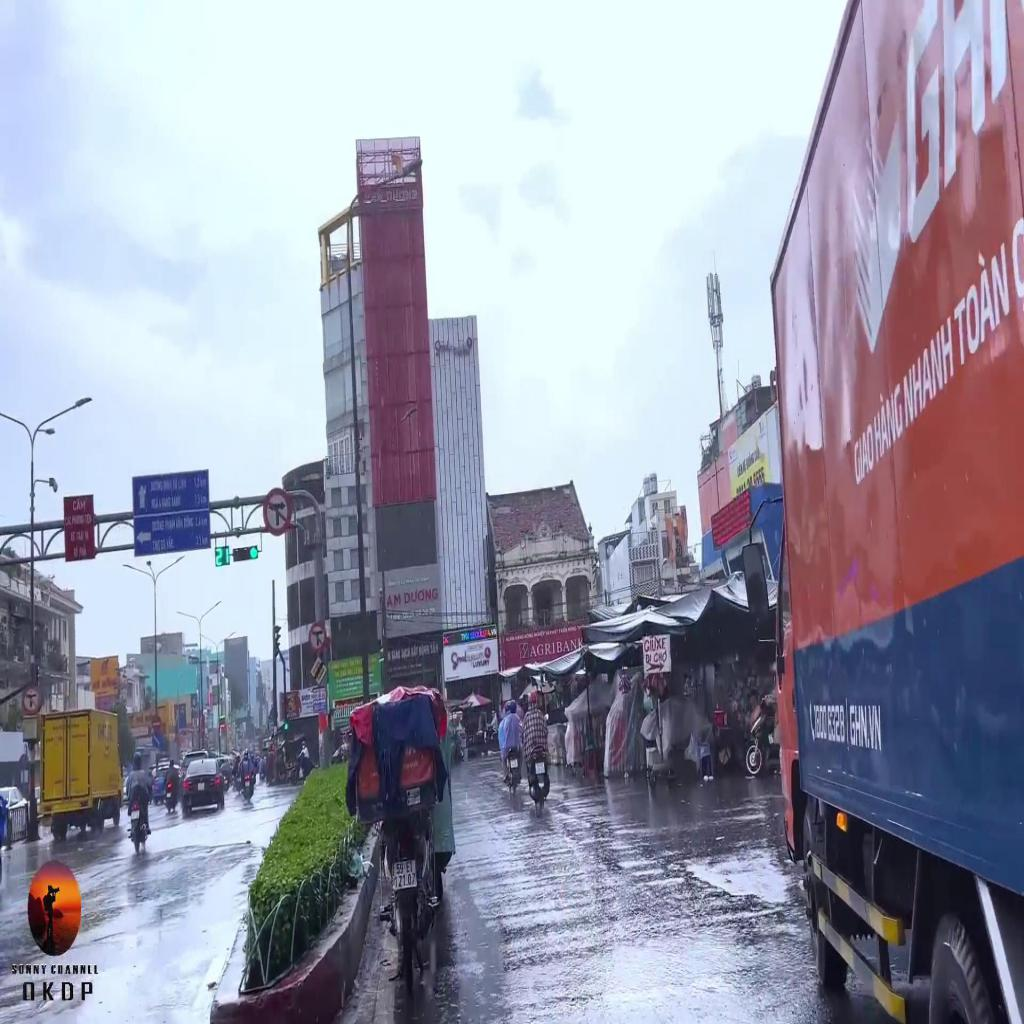cam_re_trai_va_phai: (263, 487, 292, 537), (22, 685, 41, 714), (309, 622, 326, 652)
cam_xe_di_nguoc_chieu: (152, 715, 161, 732)
duong_het_uu_tien: (311, 657, 326, 684)
huong_phai_di_vuot_chuong_ngai_vat_phai: (152, 733, 160, 747)
khac: (134, 510, 210, 557), (133, 470, 208, 516)
